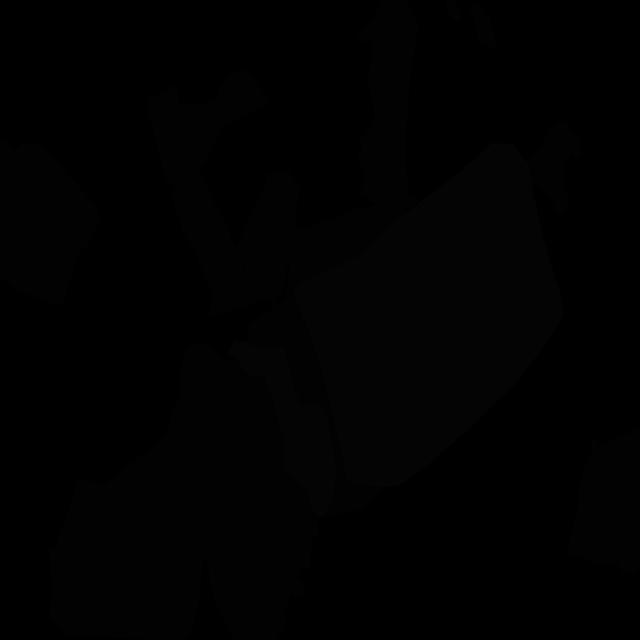cardboard: (156, 343, 319, 640), (47, 444, 216, 640), (247, 292, 388, 515), (148, 69, 269, 317), (0, 137, 100, 307), (286, 195, 421, 296), (355, 0, 419, 205), (567, 427, 640, 573), (236, 171, 300, 306), (527, 119, 580, 215), (469, 1, 496, 48), (445, 0, 461, 21)
soft_plastic: (292, 143, 564, 487), (228, 340, 336, 518)
